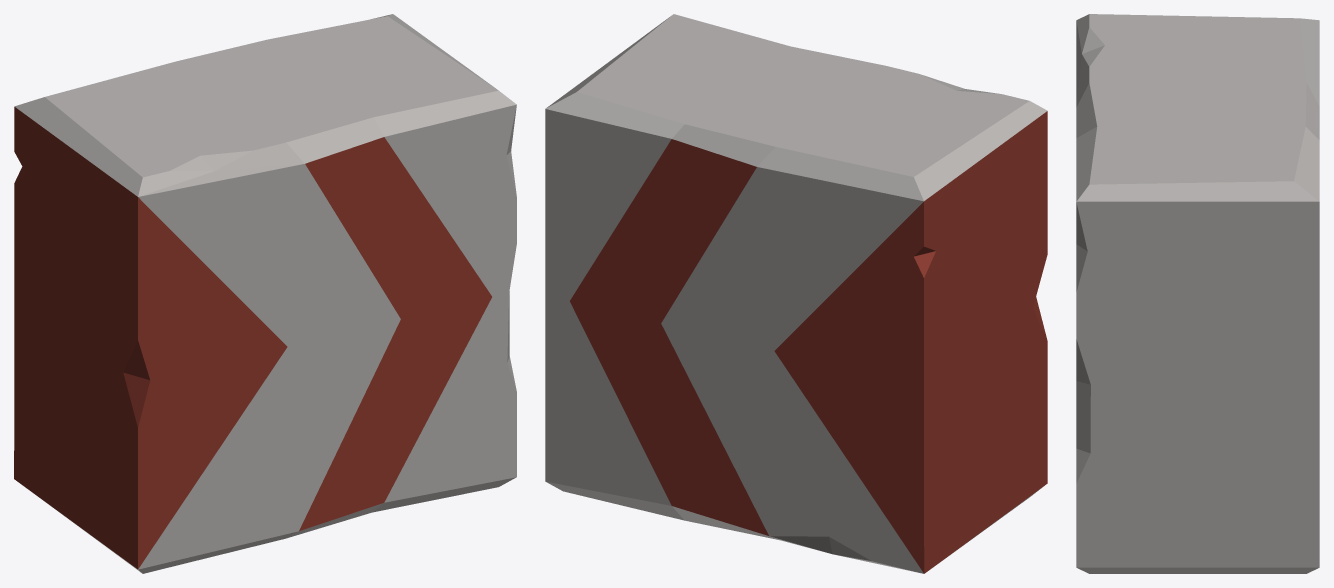
Rendered from SM_Prop_Bollard_01.fbx.
The picture shows the model from 3 angles, left to right: view 1: azimuth 30°, elevation 25°; view 2: azimuth 150°, elevation 25°; view 3: azimuth 270°, elevation 25°; orthographic projection.
Parts seen in each view (by area): view 1: SM_Prop_Bollard_01; view 2: SM_Prop_Bollard_01; view 3: SM_Prop_Bollard_01.
Boxes of the visible parts, x1,y1,x2,y2 form: SM_Prop_Bollard_01: [14, 14, 516, 573]; SM_Prop_Bollard_01: [545, 14, 1047, 573]; SM_Prop_Bollard_01: [1076, 14, 1319, 573].
Bounding box in the file's own units: 95.28 × 95.23 × 53.89.
